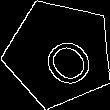O_NW: (25, 20, 93, 87)
